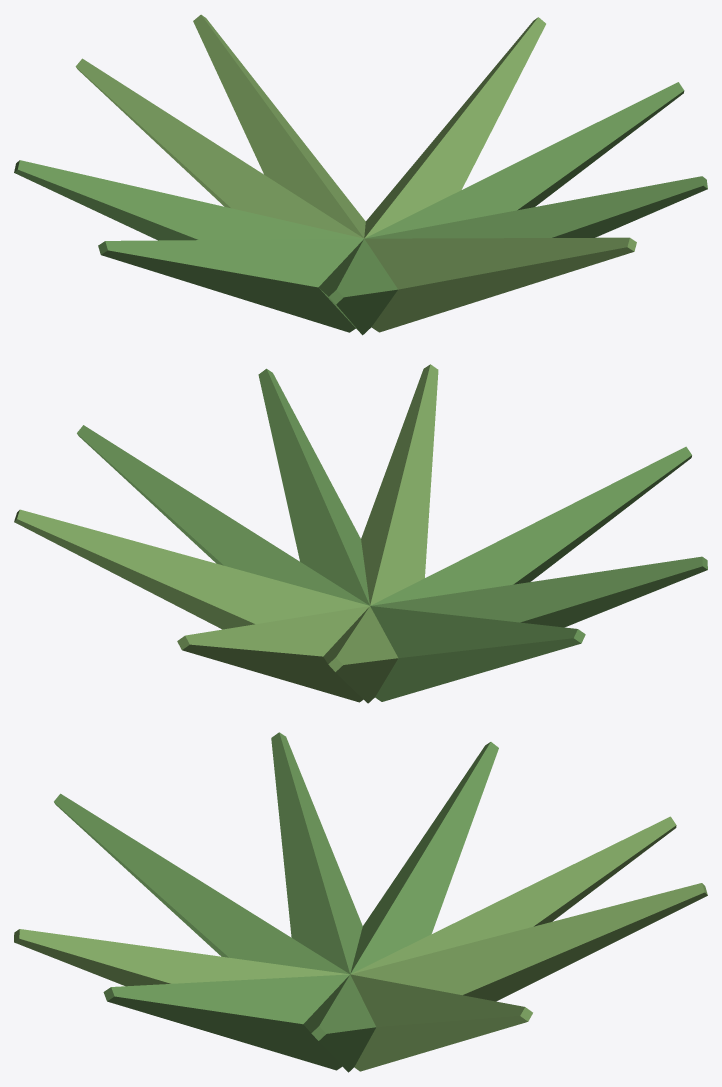
File: FernClump.glb
3 renders of one model, top to bottom at view 1: azimuth 30°, elevation 25°; view 2: azimuth 150°, elevation 25°; view 3: azimuth 270°, elevation 25°, orthographic.
Visible parts, largest first — view 1: Limb.026, Limb.024, Limb.019, Limb.023, Limb.022, Limb.020, Limb.021, Limb.027, Limb.025; view 2: Limb.020, Limb.023, Limb.025, Limb.026, Limb.027, Limb.024, Limb.019, Limb.021, Limb.022; view 3: Limb.021, Limb.027, Limb.025, Limb.024, Limb.023, Limb.020, Limb.022, Limb.026, Limb.019.
Boxes of the visible parts, <box> form: Limb.026: <box>364,237,636,332</box>; Limb.024: <box>98,238,363,332</box>; Limb.019: <box>365,82,684,238</box>; Limb.023: <box>14,160,363,240</box>; Limb.022: <box>75,58,363,238</box>; Limb.020: <box>364,17,545,238</box>; Limb.021: <box>193,14,365,238</box>; Limb.027: <box>365,176,707,238</box>; Limb.025: <box>318,239,397,335</box>; Limb.020: <box>14,509,369,629</box>; Limb.023: <box>370,606,585,701</box>; Limb.025: <box>371,446,691,605</box>; Limb.026: <box>361,364,438,605</box>; Limb.027: <box>258,368,369,605</box>; Limb.024: <box>371,556,707,627</box>; Limb.019: <box>77,425,369,605</box>; Limb.021: <box>177,606,369,702</box>; Limb.022: <box>323,606,398,703</box>; Limb.021: <box>351,883,707,1001</box>; Limb.027: <box>103,974,349,1070</box>; Limb.025: <box>54,793,349,974</box>; Limb.024: <box>271,732,362,973</box>; Limb.023: <box>350,742,498,973</box>; Limb.020: <box>350,974,532,1071</box>; Limb.022: <box>351,816,676,973</box>; Limb.026: <box>14,929,348,986</box>; Limb.019: <box>303,974,376,1072</box>.
Size of the model in its own units: 1.39 by 0.4057 by 1.37.
